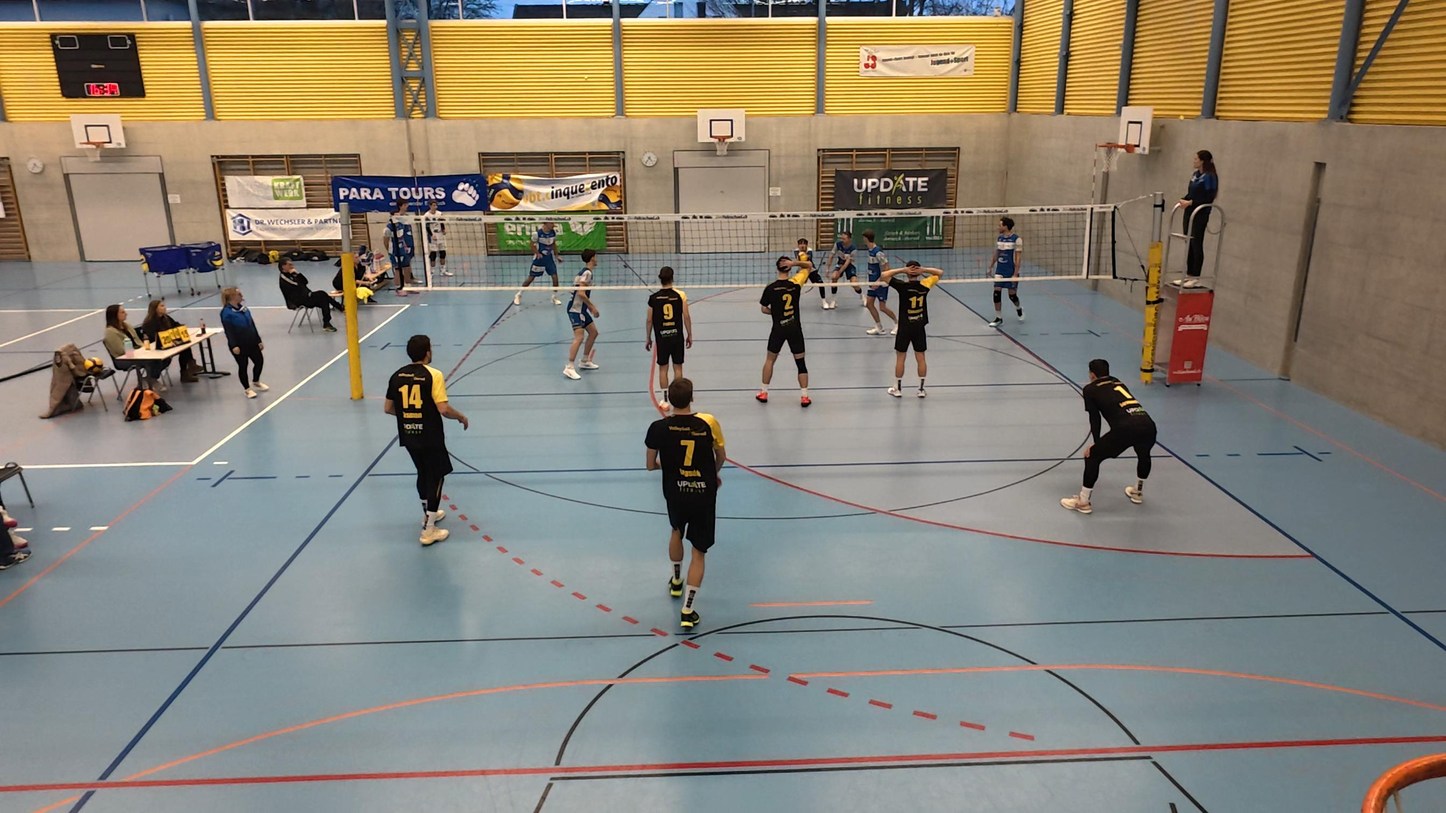ricezione: (795, 238, 831, 313)
